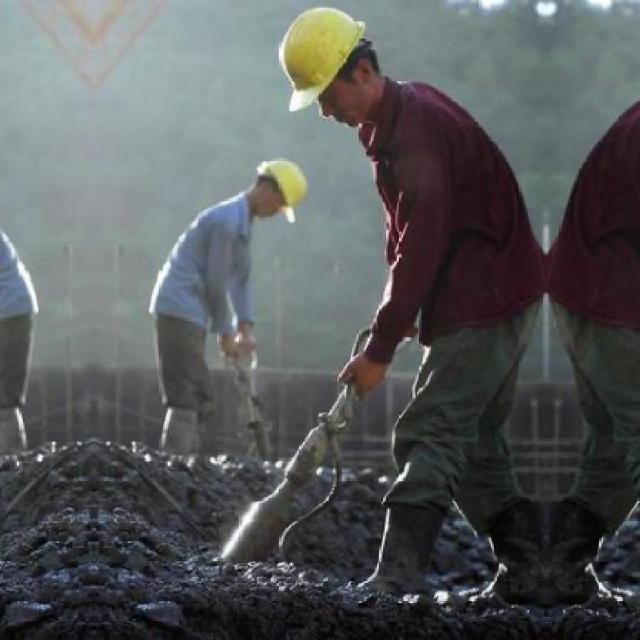helmet: (272, 5, 400, 137), (248, 154, 310, 218)
